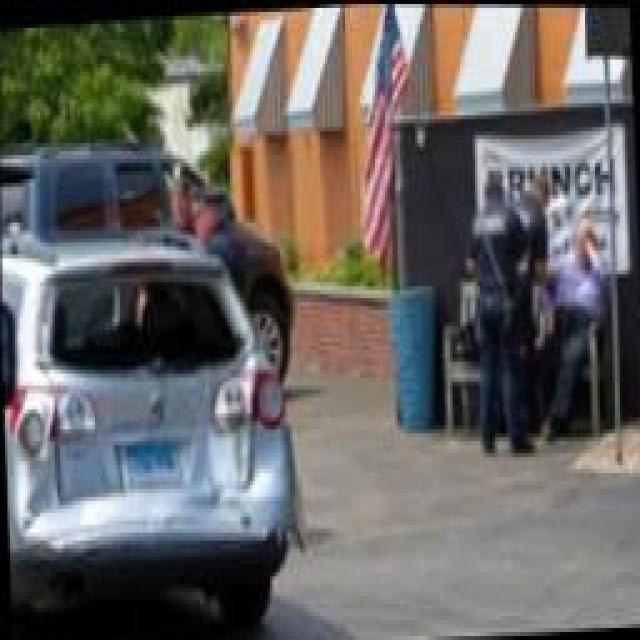Dickey: (47, 265, 254, 508)
Windshield: (51, 266, 251, 372)
